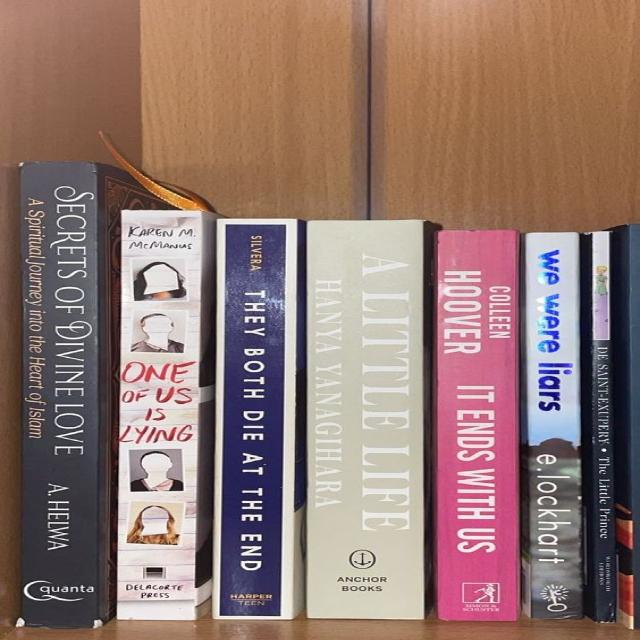book: (19, 162, 171, 628), (306, 220, 433, 620), (116, 210, 214, 620), (213, 219, 305, 620), (436, 230, 520, 621), (522, 232, 583, 618), (582, 232, 616, 621)
